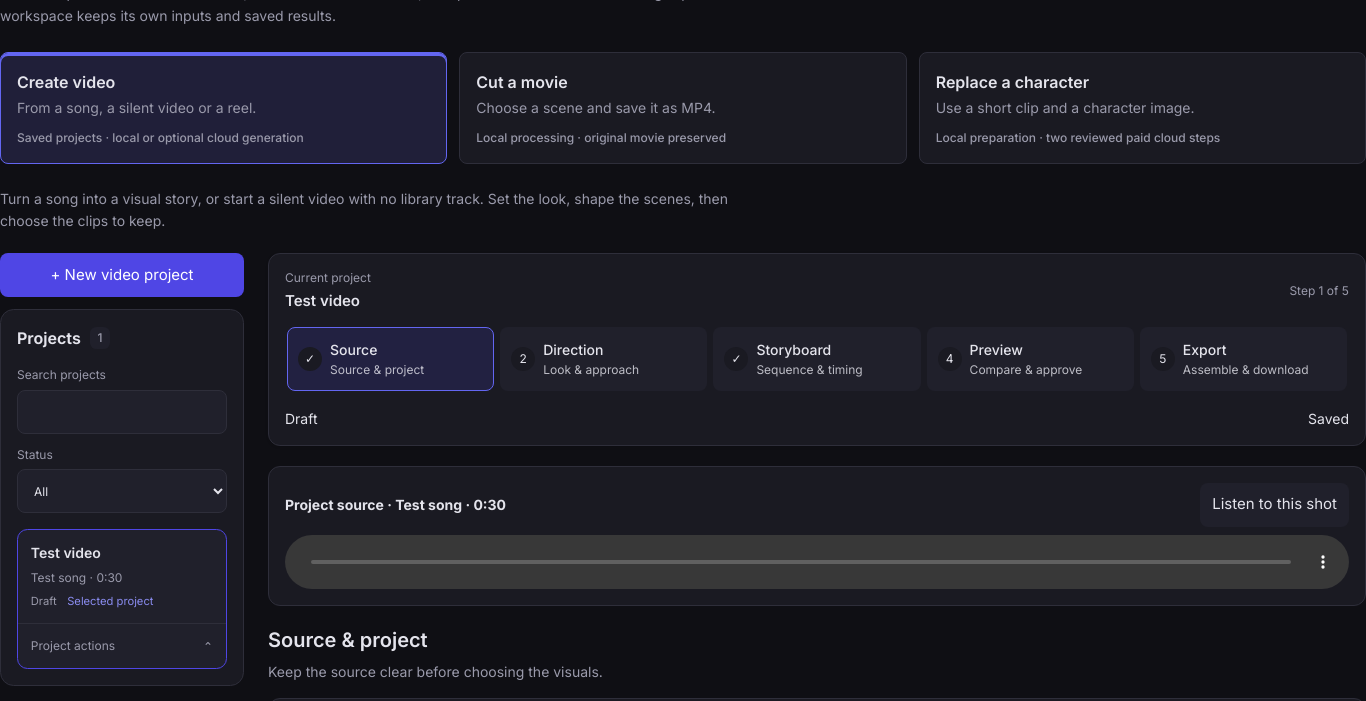
Test case: disables audio analysis and shows its missing dependency guidance
Click the tab "2 Direction Look & approach" at {"x": 604, "y": 358}, box [500,326,707,390]
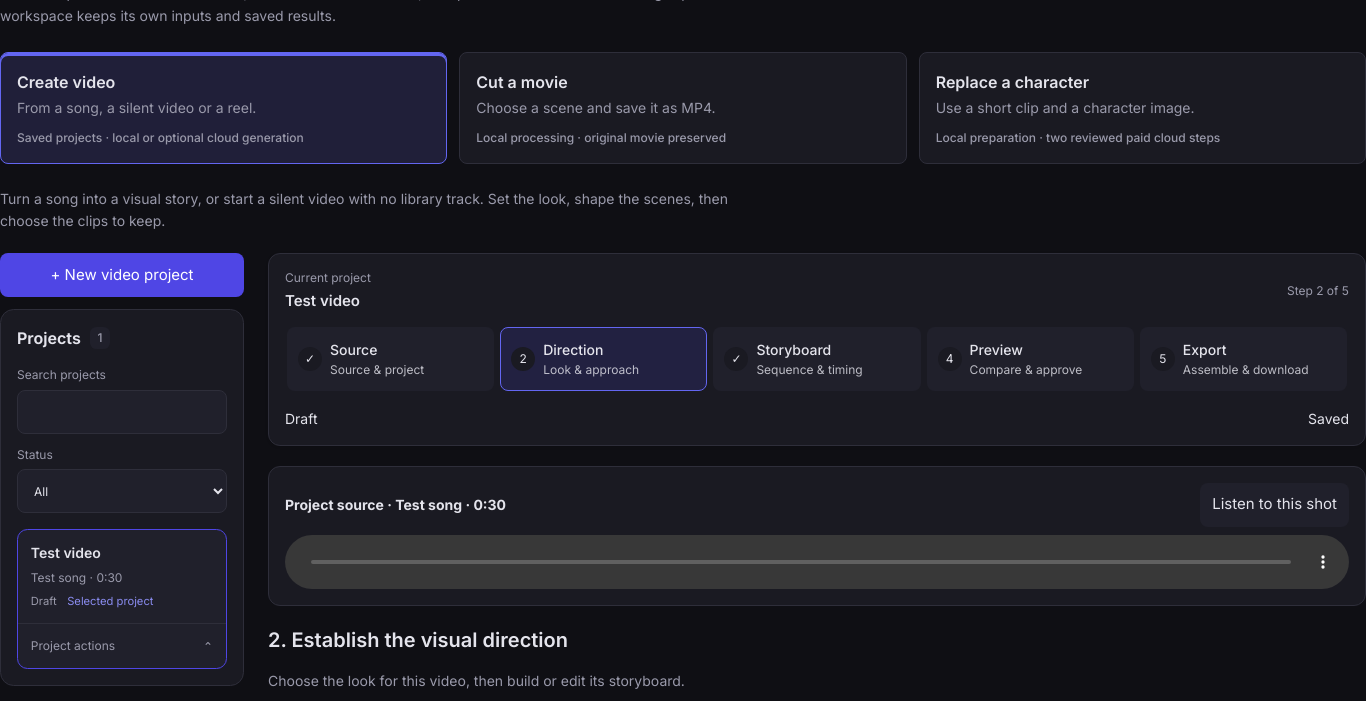
Click the tab "✓ Storyboard Sequence & timing" at {"x": 817, "y": 358}, box [713,326,921,390]
(page scrolled)
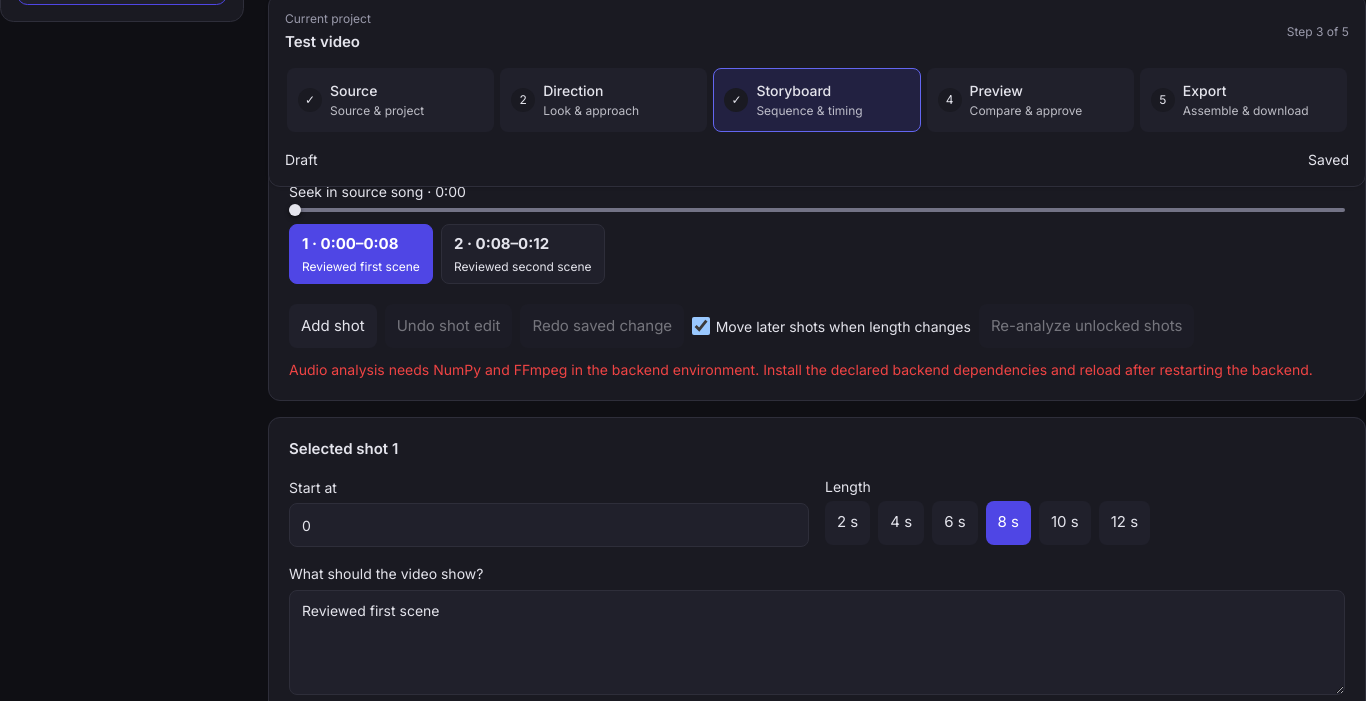
Check: the button "Re-analyze unlocked shots" is disabled, box [979,304,1194,348]
